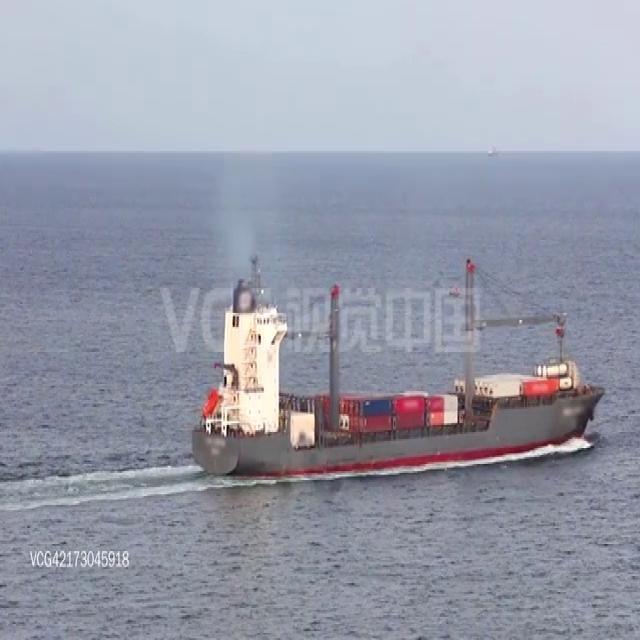cargoship: (195, 245, 600, 489)
